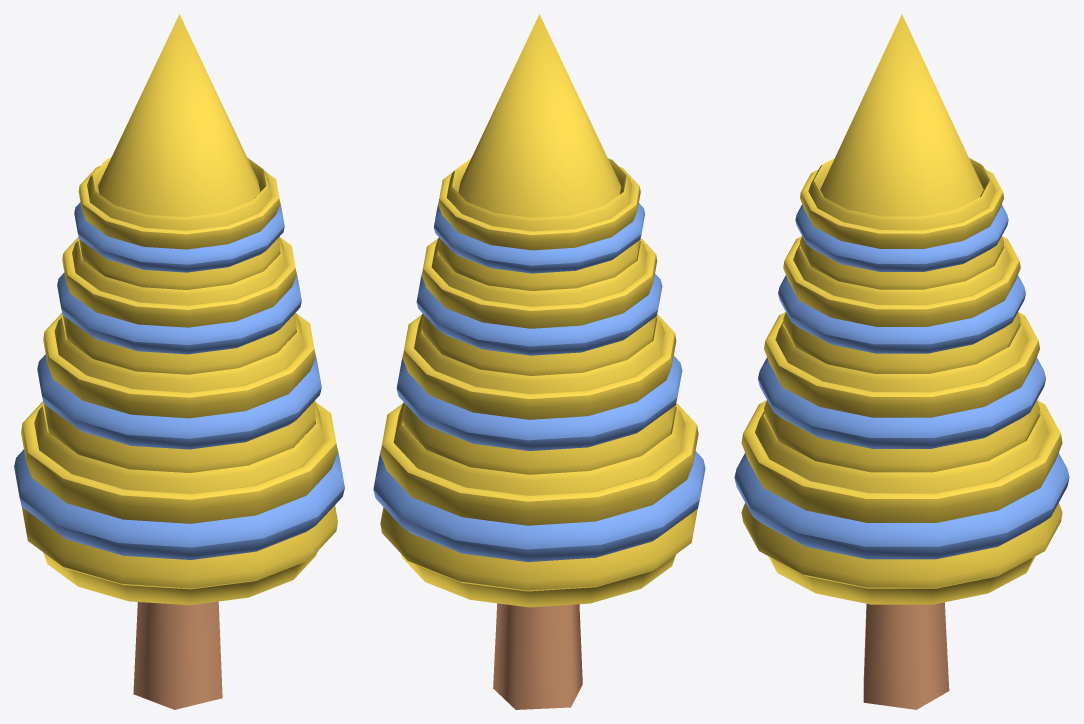
File: Tree_9.fbx
3 renders of one model, left to right at view 1: azimuth 30°, elevation 25°; view 2: azimuth 150°, elevation 25°; view 3: azimuth 270°, elevation 25°, orthographic.
Visible parts, largest first — view 1: sweep48, sweep51, sweep49, sweep50, polySurface143; view 2: sweep48, sweep51, sweep49, sweep50, polySurface143; view 3: sweep48, sweep51, sweep49, sweep50, polySurface143.
Part boxes in pixels (x1=…): sweep48: x1=14, y1=401, x2=344, y2=605; sweep51: x1=74, y1=14, x2=284, y2=289; sweep49: x1=37, y1=312, x2=321, y2=472; sweep50: x1=57, y1=237, x2=301, y2=374; polySurface143: x1=133, y1=601, x2=222, y2=709; sweep48: x1=373, y1=402, x2=705, y2=607; sweep51: x1=433, y1=14, x2=644, y2=290; sweep49: x1=396, y1=314, x2=682, y2=474; sweep50: x1=416, y1=237, x2=662, y2=375; polySurface143: x1=493, y1=603, x2=582, y2=709; sweep48: x1=734, y1=400, x2=1069, y2=604; sweep51: x1=795, y1=14, x2=1008, y2=289; sweep49: x1=758, y1=312, x2=1045, y2=472; sweep50: x1=778, y1=236, x2=1025, y2=373; polySurface143: x1=863, y1=602, x2=949, y2=709.
Bounding box in the file's own units: 14.06 × 32.17 × 14.43.
